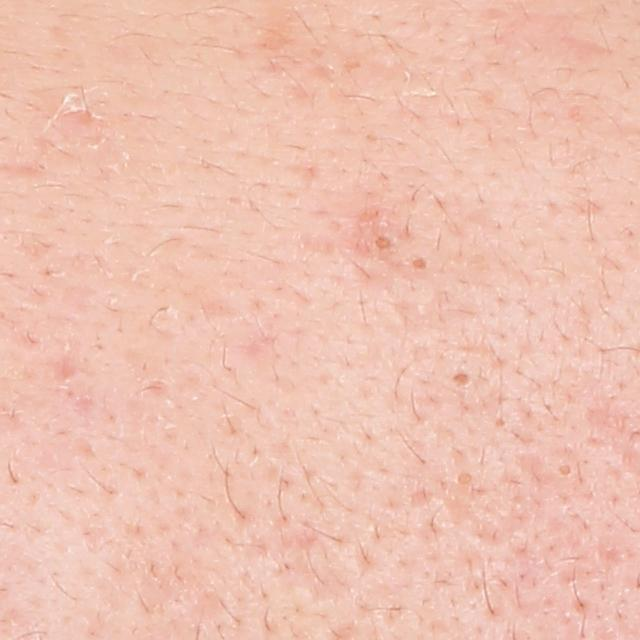atrophic_scar: (439, 488, 508, 545), (516, 451, 544, 480)
comedo: (264, 518, 359, 607), (364, 230, 402, 264), (442, 364, 476, 396), (406, 250, 431, 276), (453, 467, 476, 492), (554, 461, 576, 482)
